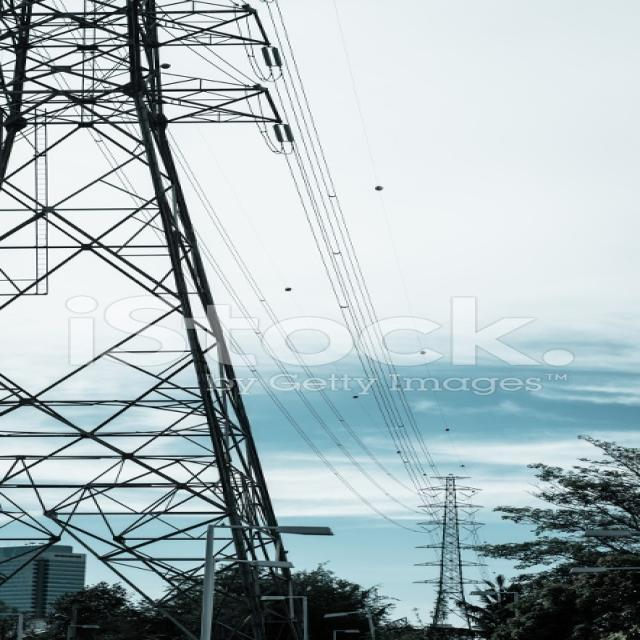non-critical vegetation: (7, 1, 326, 546)
